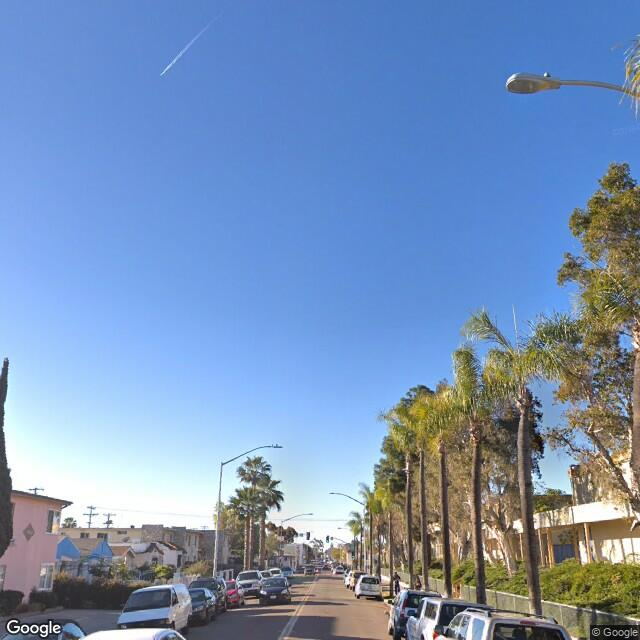light: (502, 68, 572, 97)
